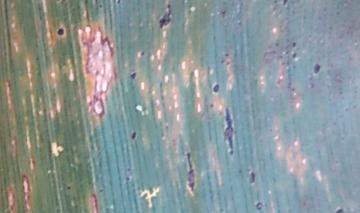tarspot: (218, 106, 241, 156), (180, 149, 203, 197), (155, 1, 177, 32), (251, 197, 268, 211), (54, 23, 67, 40), (209, 81, 224, 93), (311, 62, 323, 77), (246, 169, 258, 183), (128, 129, 141, 141), (217, 8, 230, 20), (331, 204, 347, 213), (128, 68, 138, 82), (289, 51, 301, 61), (63, 183, 74, 192), (278, 1, 292, 8), (122, 174, 132, 183), (138, 48, 146, 59), (289, 39, 297, 50), (222, 51, 232, 59), (112, 1, 123, 6), (97, 2, 104, 9)
